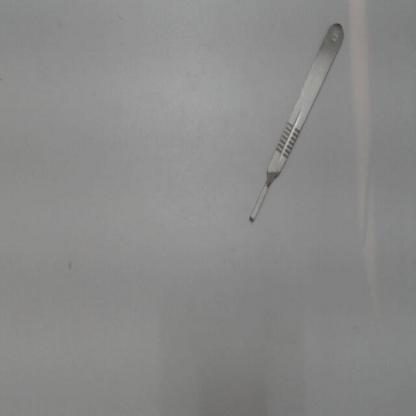No.4 BP Handle: (237, 13, 354, 234)
